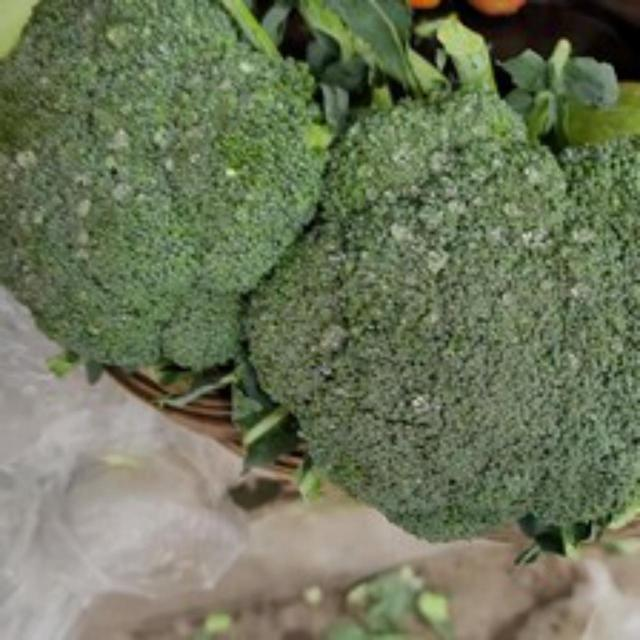broccoli: (228, 88, 637, 540)
